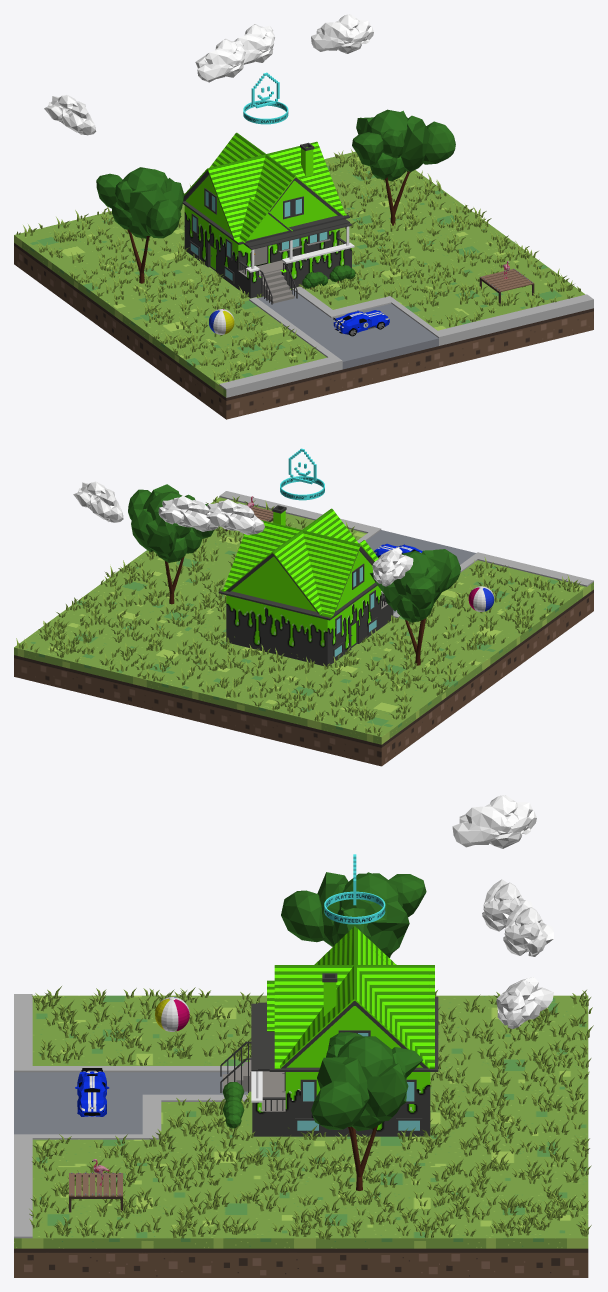
3 renders of one model, top to bottom at view 1: azimuth 30°, elevation 25°; view 2: azimuth 150°, elevation 25°; view 3: azimuth 270°, elevation 25°, orthographic. The views are drawn at different scales.
Visible parts, largest first — view 1: Cube.006, Cube.754, Circle.012_Grass_0.192, Cube.007, tree, tree.001, VEHICLES_RACING_CAR, TYPE_PREMIUM, Cube.009, OBJRANDOM_BEACHBALL; view 2: Cube.006, Cube.754, Circle.012_Grass_0.192, Cube.007, tree.001, tree, TYPE_PREMIUM, OBJRANDOM_BEACHBALL; view 3: Cube.006, Circle.012_Grass_0.192, Cube.754, tree, Cube.007, tree.001, Cube.009, VEHICLES_RACING_CAR, TYPE_PREMIUM, OBJRANDOM_BEACHBALL.
Boxes of the visible parts, bbox=[...] form: Cube.006: bbox=[14, 151, 593, 419]; Cube.754: bbox=[183, 132, 354, 304]; Circle.012_Grass_0.192: bbox=[16, 149, 580, 381]; Cube.007: bbox=[44, 14, 373, 135]; tree: bbox=[352, 109, 455, 225]; tree.001: bbox=[96, 167, 184, 283]; VEHICLES_RACING_CAR: bbox=[333, 310, 389, 336]; TYPE_PREMIUM: bbox=[243, 72, 288, 124]; Cube.009: bbox=[479, 268, 534, 303]; OBJRANDOM_BEACHBALL: bbox=[209, 309, 234, 334]; Cube.006: bbox=[14, 491, 593, 766]; Cube.754: bbox=[218, 505, 393, 666]; Circle.012_Grass_0.192: bbox=[16, 496, 580, 736]; Cube.007: bbox=[73, 481, 413, 586]; tree.001: bbox=[370, 549, 460, 665]; tree: bbox=[128, 484, 214, 604]; TYPE_PREMIUM: bbox=[280, 448, 324, 500]; OBJRANDOM_BEACHBALL: bbox=[468, 586, 494, 611]; Cube.006: bbox=[14, 994, 588, 1277]; Circle.012_Grass_0.192: bbox=[29, 986, 593, 1239]; Cube.754: bbox=[220, 926, 438, 1136]; tree: bbox=[311, 1032, 422, 1190]; Cube.007: bbox=[452, 795, 553, 1029]; tree.001: bbox=[281, 872, 426, 957]; Cube.009: bbox=[69, 1172, 122, 1212]; VEHICLES_RACING_CAR: bbox=[75, 1068, 109, 1116]; TYPE_PREMIUM: bbox=[324, 854, 385, 924]; OBJRANDOM_BEACHBALL: bbox=[155, 997, 189, 1031].
Bounding box in the file's own units: 4071 × 2300 × 4040.
38 materials, 5 textured.
